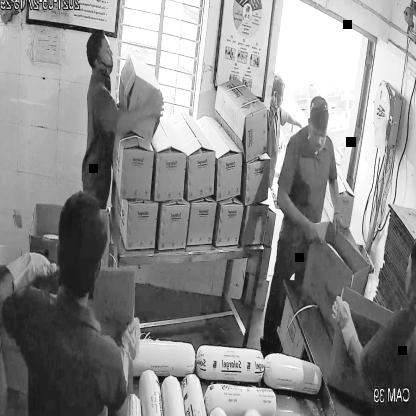no_goggles: (306, 121, 332, 145)
